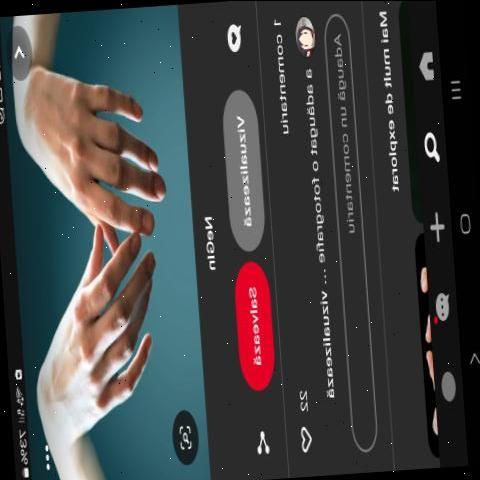Hands: (6, 234, 179, 480), (11, 20, 187, 250)
